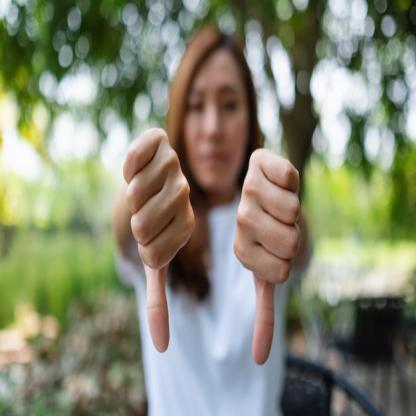thumb_down: (119, 118, 196, 354), (232, 143, 302, 368)
